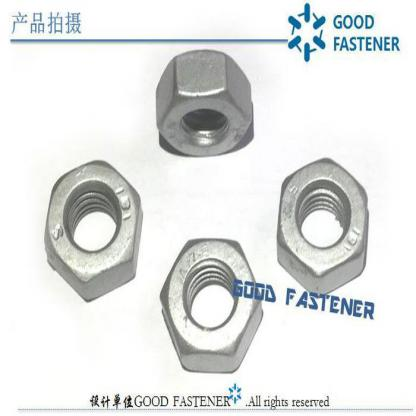FOD: (42, 158, 146, 302), (158, 235, 263, 374), (273, 155, 370, 298), (154, 48, 254, 158)
